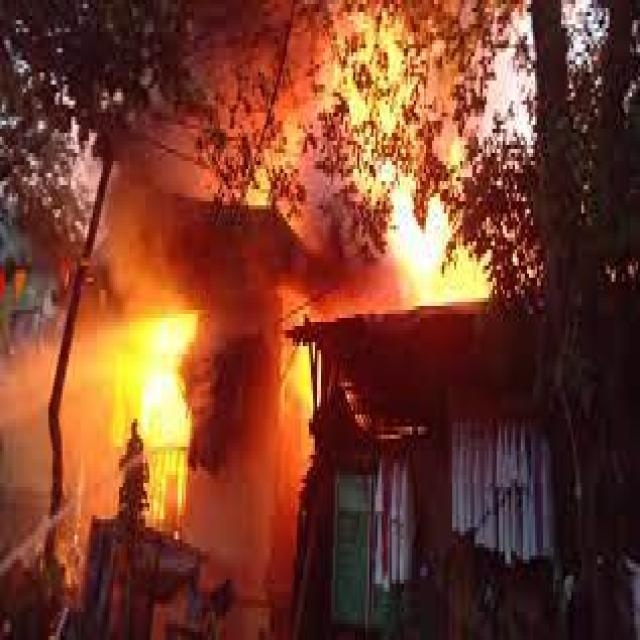Fire: (385, 185, 470, 302), (144, 334, 207, 466)
Smoke: (81, 0, 349, 188), (272, 333, 318, 478)
